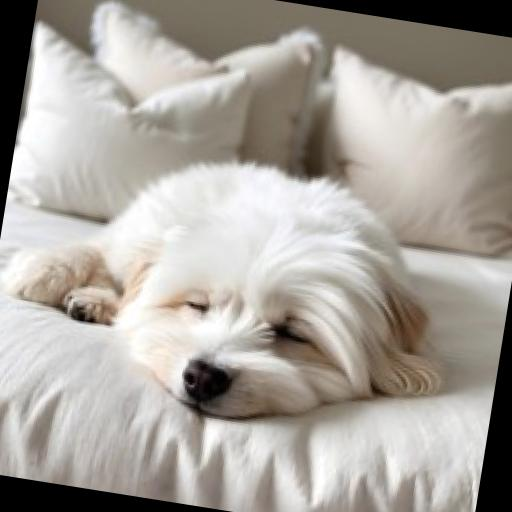dog: (0, 103, 481, 460)
